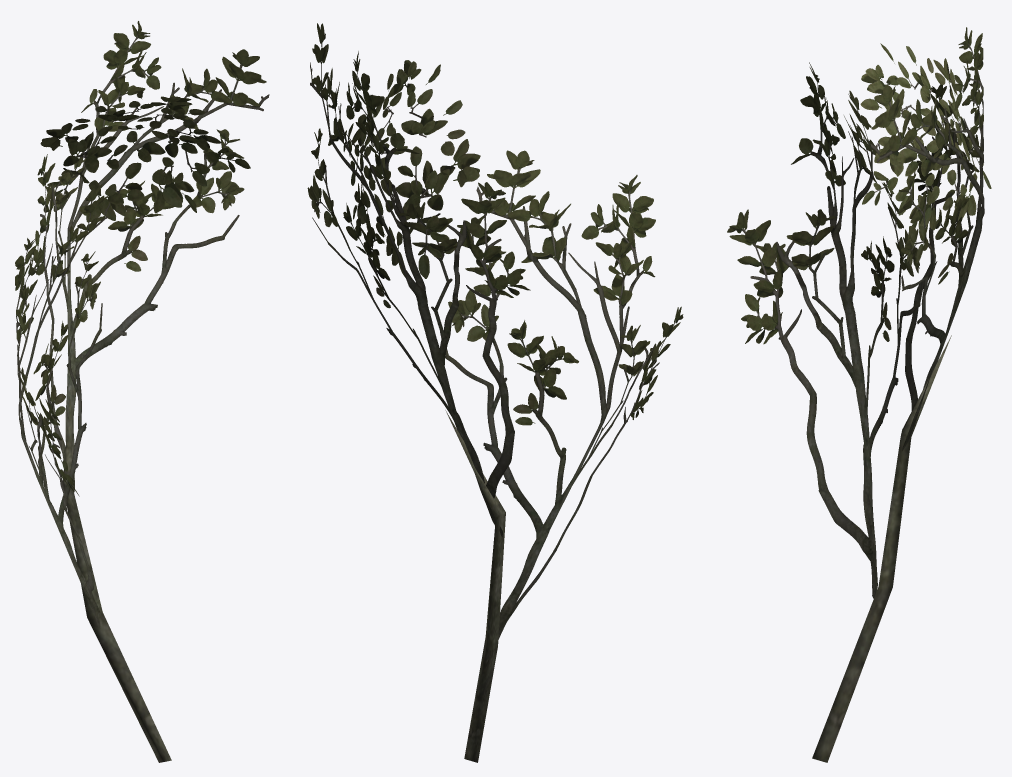
File: TI_Tree_Middle_Branch_01.fbx
3 views of the same model, side by side, from view 1: azimuth 30°, elevation 25°; view 2: azimuth 150°, elevation 25°; view 3: azimuth 270°, elevation 25° (orthographic). The views are drawn at different scales.
Visible parts, largest first — view 1: TI_Tree_Middle_Branch_01; view 2: TI_Tree_Middle_Branch_01; view 3: TI_Tree_Middle_Branch_01.
Boxes of the visible parts, box(x1,y1,x2,y2) form: TI_Tree_Middle_Branch_01: box(15, 21, 269, 762); TI_Tree_Middle_Branch_01: box(307, 23, 683, 762); TI_Tree_Middle_Branch_01: box(727, 27, 991, 762).
Bounding box in the file's own units: 1.29 × 2.92 × 0.9509.
